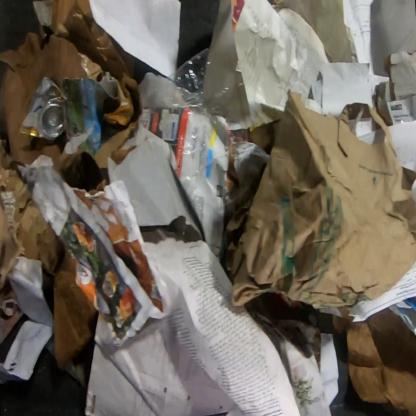cardboard: (0, 26, 104, 372), (31, 0, 142, 171), (330, 305, 415, 415), (376, 50, 416, 127)
metal: (18, 76, 69, 141)
soft_plastic: (138, 47, 234, 199)
